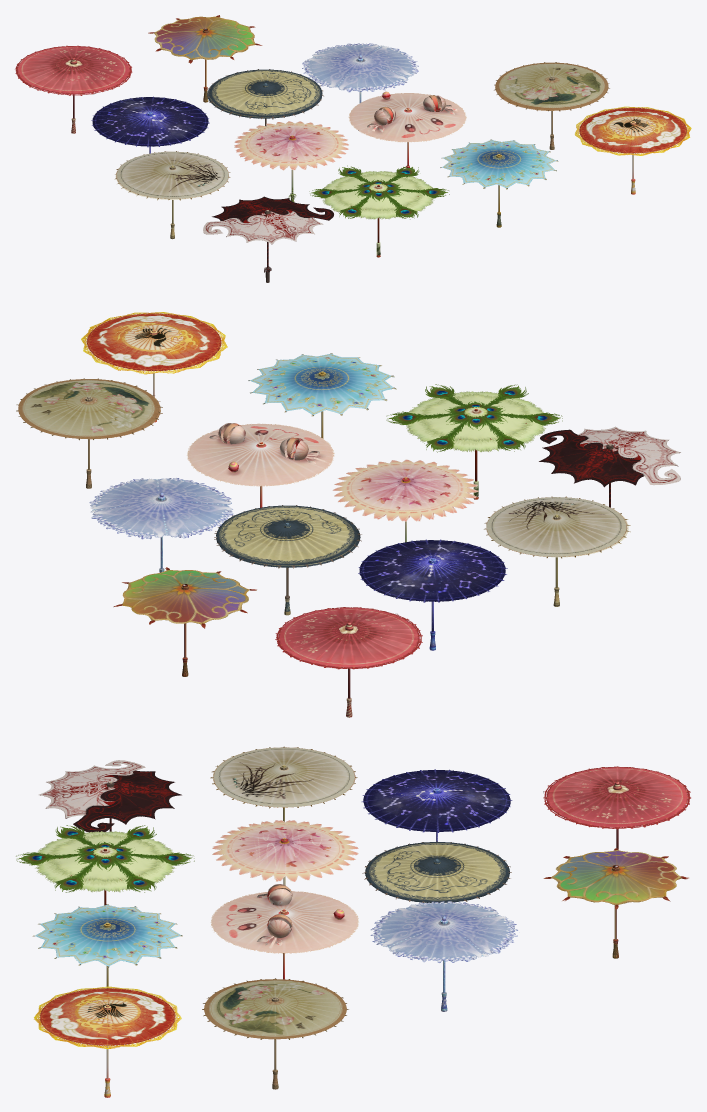
File: 唐雨柔武器.obj
3 views of the same model, one above another, from view 1: azimuth 30°, elevation 25°; view 2: azimuth 150°, elevation 25°; view 3: azimuth 270°, elevation 25° (orthographic). The views are drawn at different scales.
Visible parts, largest first — view 1: Object34, Object22, Object46, Object42, Object50, Object54, Object04, Object30, Object08, Object38, Object18, Object09 (+2 smaller); view 2: Object34, Object46, Object50, Object22, Object04, Object42, Object54, Object30, Object08, Object09, Object38, Object18 (+2 smaller); view 3: Object34, Object46, Object22, Object42, Object50, Object54, Object30, Object04, Object08, Object09, Object38, Object18 (+2 smaller).
Part boxes in pixels (left/top/right/bottom): Object34: left=309, top=165, right=449, bottom=257; Object22: left=15, top=45, right=132, bottom=133; Object46: left=91, top=96, right=209, bottom=153; Object42: left=574, top=106, right=691, bottom=194; Object50: left=206, top=69, right=323, bottom=126; Object54: left=494, top=62, right=609, bottom=149; Object04: left=114, top=151, right=230, bottom=239; Object30: left=302, top=43, right=418, bottom=130; Object08: left=234, top=121, right=348, bottom=201; Object38: left=440, top=139, right=558, bottom=227; Object18: left=203, top=196, right=333, bottom=282; Object09: left=348, top=93, right=466, bottom=167; Object34: left=386, top=384, right=562, bottom=499; Object46: left=358, top=539, right=507, bottom=650; Object50: left=214, top=505, right=361, bottom=615; Object22: left=275, top=607, right=422, bottom=717; Object04: left=484, top=496, right=630, bottom=606; Object42: left=81, top=312, right=227, bottom=422; Object54: left=16, top=378, right=162, bottom=488; Object30: left=89, top=478, right=233, bottom=572; Object08: left=332, top=459, right=478, bottom=542; Object09: left=187, top=423, right=334, bottom=507; Object38: left=248, top=353, right=396, bottom=438; Object18: left=539, top=426, right=680, bottom=507; Object34: left=16, top=825, right=194, bottom=905; Object46: left=361, top=769, right=512, bottom=841; Object22: left=543, top=766, right=690, bottom=850; Object42: left=34, top=986, right=181, bottom=1097; Object50: left=362, top=841, right=511, bottom=902; Object54: left=202, top=978, right=348, bottom=1089; Object30: left=370, top=901, right=517, bottom=1011; Object04: left=210, top=746, right=357, bottom=821; Object08: left=212, top=820, right=358, bottom=885; Object09: left=210, top=891, right=358, bottom=979; Object38: left=32, top=904, right=182, bottom=988; Object18: left=38, top=760, right=181, bottom=832.
Size of the model in its own units: 133 by 20.82 by 126.
